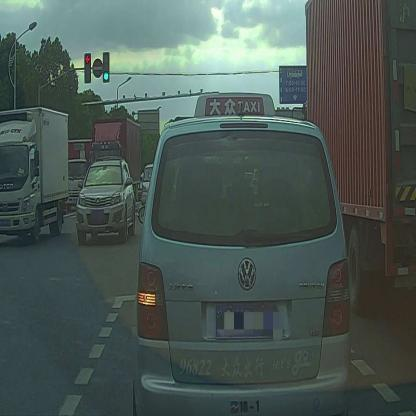Green Light: (103, 50, 110, 83)
